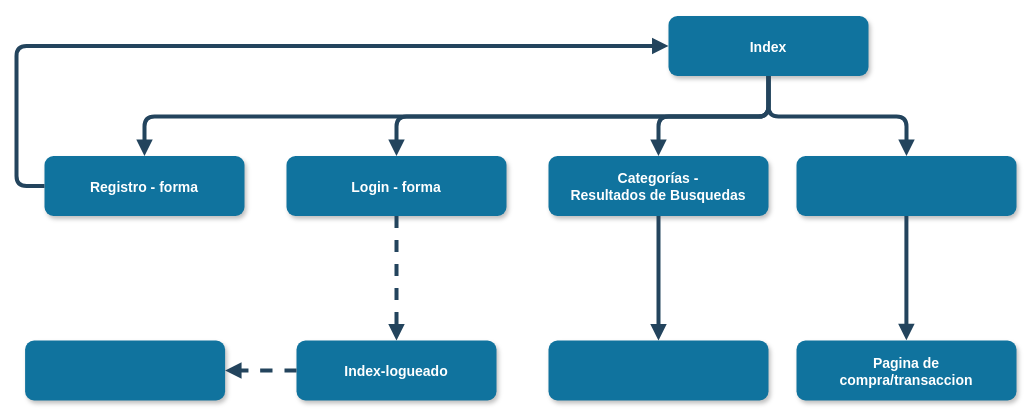
Image size: 1033x417. Some labels were removed from this diagram. Here are the shapes that lost their labels. From the top down, the centre of each, then its label:
At (x=907, y=187): "Carrito".
At (x=126, y=371): "Historial de Compras".
At (x=659, y=371): "Detalles de la pelicula".
